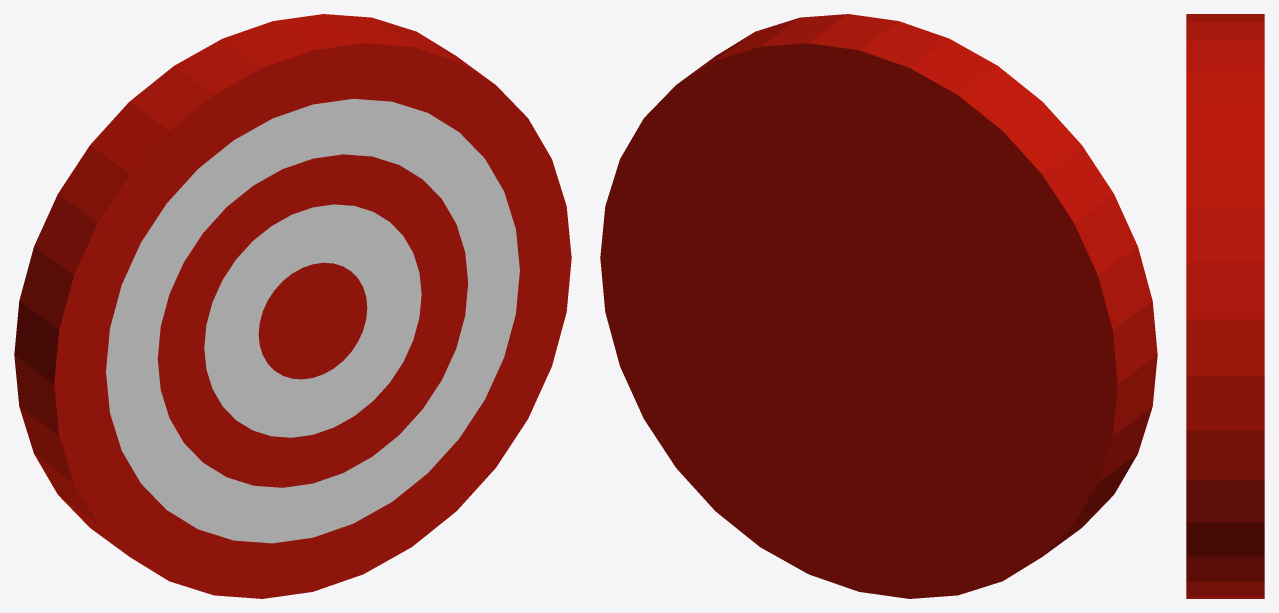
Rendered from Target.fbx.
The picture shows the model from 3 angles, left to right: view 1: azimuth 30°, elevation 25°; view 2: azimuth 150°, elevation 25°; view 3: azimuth 270°, elevation 25°; orthographic projection. The views are drawn at different scales.
Parts seen in each view (by area): view 1: Circle; view 2: Circle; view 3: Circle.
Part boxes in pixels (x1=…): Circle: x1=14, y1=14, x2=571, y2=598; Circle: x1=600, y1=14, x2=1157, y2=598; Circle: x1=1186, y1=14, x2=1264, y2=598.
Size of the model in its own units: 310 by 310 by 41.51.
